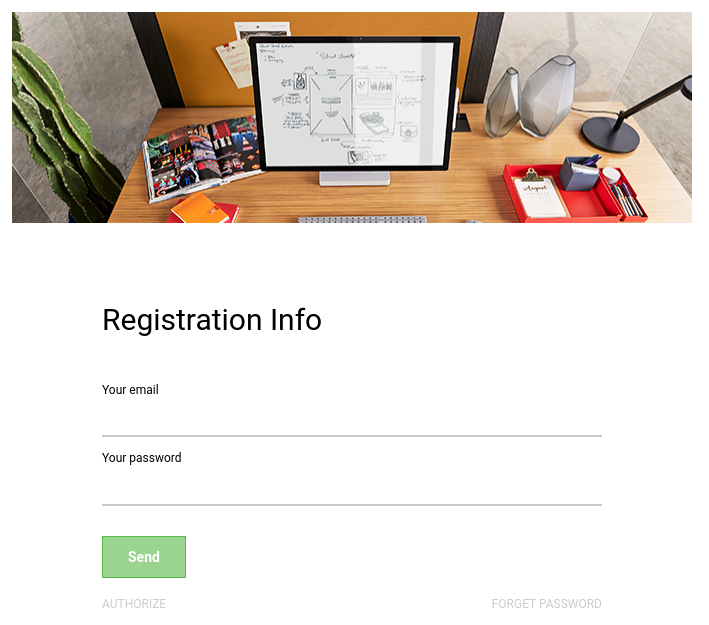
Test: RegisterForm › btn Send › not disabled after the error disappears
The image size is (709, 625).
Type "loki99928@yandex.ru" into the field with test id "input_email" at (352, 418), box [102,399,602,438]
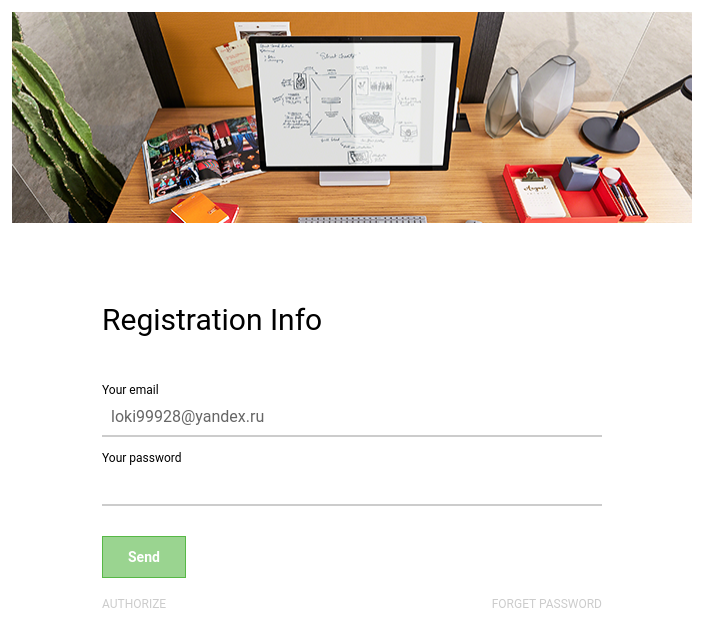
Type "123123aA@" into the password field with test id "input_password" at (352, 487), box [102,468,602,506]
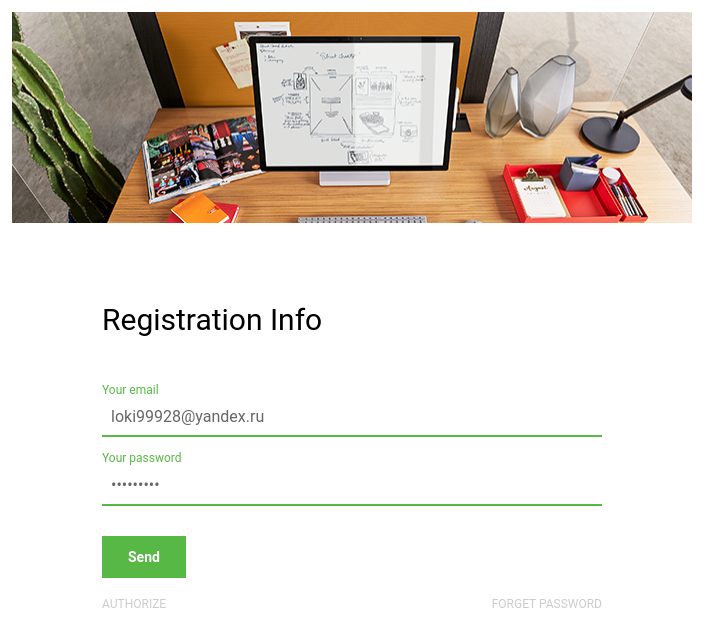
Expected: the button "Send" is enabled, [102,536,186,578]
